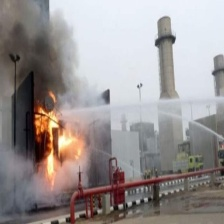fire: (30, 92, 82, 177)
smoke: (1, 1, 72, 98), (1, 152, 91, 207)
